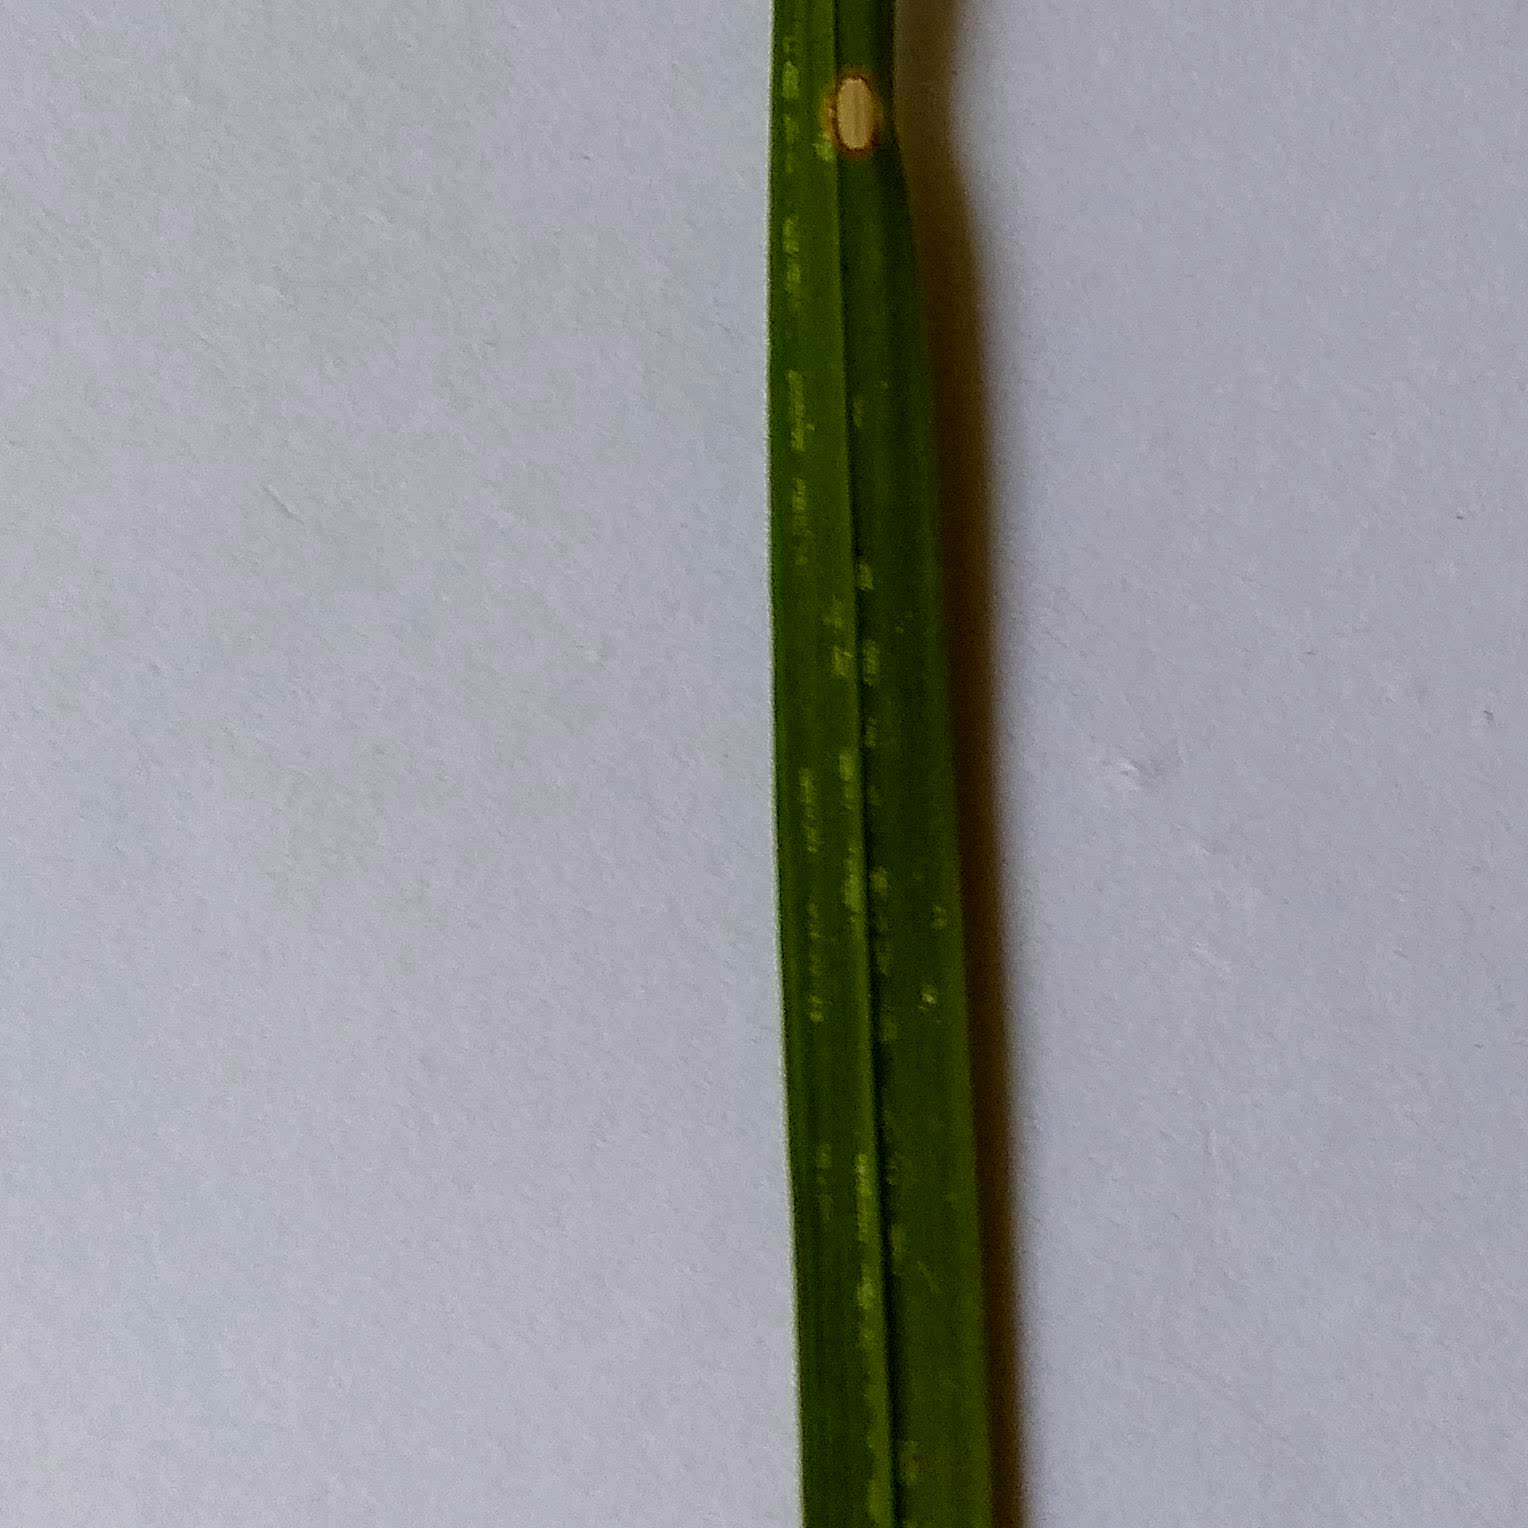1 RiceBlast: (816, 55, 900, 164)
